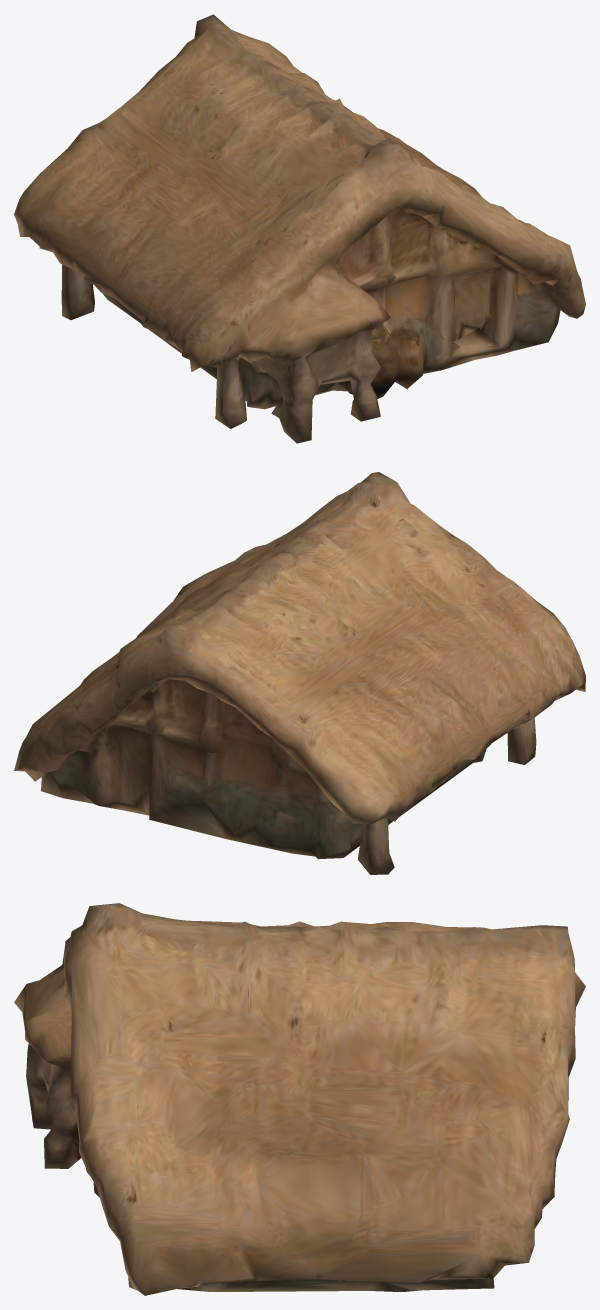
The model's file is farm.glb.
The picture shows the model from 3 angles, top to bottom: view 1: azimuth 30°, elevation 25°; view 2: azimuth 150°, elevation 25°; view 3: azimuth 270°, elevation 25°; orthographic projection. The views are drawn at different scales.
Parts seen in each view (by area): view 1: model; view 2: model; view 3: model.
Boxes of the visible parts, left/top/right/bottom form: model: left=14, top=14, right=585, bottom=443; model: left=14, top=472, right=585, bottom=874; model: left=14, top=903, right=585, bottom=1295.
Bounding box in the file's own units: 0.9921 × 0.5623 × 1.
Materials: 1 (1 with a texture image).
